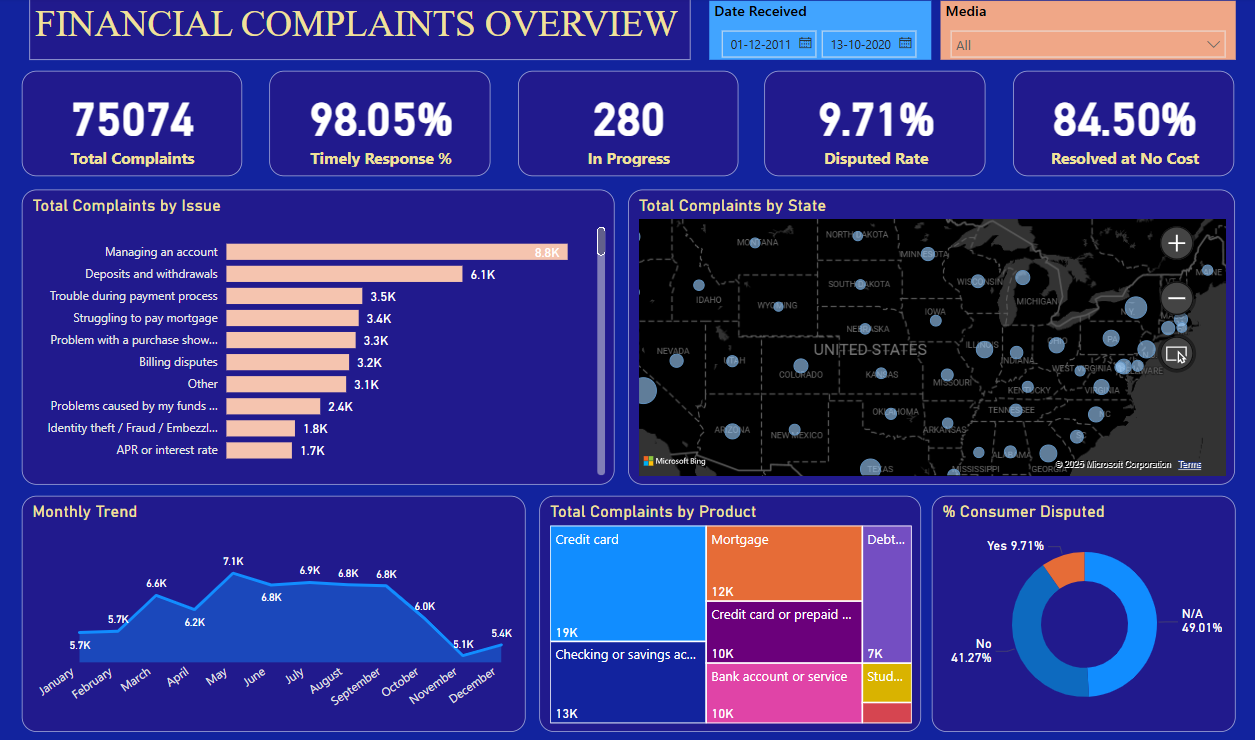

This screenshot's page, from the dashboard's own definition file:
{"tool":"powerbi","page":{"name":"Page 1","canvas":[1280,758],"ordinal":0},"visuals":[{"type":"card","fields":{"Values":["Financial Consumer Complaints_Financial Consumer Complaints.Total Complaints"]},"box":[23.8,75.2,223.9,107],"z":0},{"type":"textbox","box":[32,0,672,64],"z":1000},{"type":"card","fields":{"Values":["Financial Consumer Complaints_Financial Consumer Complaints.Tomely Response %"]},"box":[275.5,75.2,225.1,107],"z":2000},{"type":"card","fields":{"Values":["Financial Consumer Complaints_Financial Consumer Complaints.In Progress Complaints"]},"box":[527.9,75.2,223.9,107],"z":3000},{"type":"card","fields":{"Values":["Financial Consumer Complaints_Financial Consumer Complaints.Consumer Disputed Rate"]},"box":[779.1,75.2,225,107],"z":4000},{"type":"card","fields":{"Values":["Financial Consumer Complaints_Financial Consumer Complaints.Resolved at No Cost"]},"box":[1031.3,75.2,225.1,107],"z":5000},{"type":"barChart","fields":{"Category":["Financial Consumer Complaints_Financial Consumer Complaints.Issue"],"Y":["Financial Consumer Complaints_Financial Consumer Complaints.Total Complaints"]},"box":[24.4,195.1,602.3,299.9],"z":6000},{"type":"map","fields":{"Category":["Financial Consumer Complaints_Financial Consumer Complaints.State"],"Size":["Financial Consumer Complaints_Financial Consumer Complaints.Total Complaints"]},"box":[640.1,195.1,617,299.9],"z":7000},{"type":"areaChart","title":"Monthly Trend","fields":{"Category":["Financial Consumer Complaints_Financial Consumer Complaints.Date Received.Variation.Date Hierarchy.Month"],"Y":["Financial Consumer Complaints_Financial Consumer Complaints.Total Complaints"]},"box":[24.4,507.2,512.1,240.2],"z":8000},{"type":"treemap","fields":{"Group":["Financial Consumer Complaints_Financial Consumer Complaints.Product"],"Values":["Financial Consumer Complaints_Financial Consumer Complaints.Total Complaints"]},"box":[549.9,507.2,387.7,240.2],"z":9000},{"type":"donutChart","title":"% Consumer Disputed","fields":{"Category":["Financial Consumer Complaints_Financial Consumer Complaints.Consumer disputed?"],"Y":["Financial Consumer Complaints_Financial Consumer Complaints.Total Complaints"]},"box":[948.6,507.2,308.5,240.2],"z":10000},{"type":"slicer","title":"Date Received","fields":{"Values":["Financial Consumer Complaints_Financial Consumer Complaints.Date Received"]},"box":[723,3.7,225.6,59.7],"z":11000},{"type":"slicer","title":"Media","fields":{"Values":["Financial Consumer Complaints_Financial Consumer Complaints.Submitted via"]},"box":[957.1,3.7,299.9,59.7],"z":12000}]}

Visuals, with their boxes in screenshot pixels (x1, y1, x2, y2), scaled from the page's 1280x758 canvas onto the 1255x740 screenshot:
card - Financial Consumer Complaints_Financial Consumer Complaints.Total Complaints: BBox(23, 73, 243, 178)
textbox: BBox(31, 0, 690, 62)
card - Financial Consumer Complaints_Financial Consumer Complaints.Tomely Response %: BBox(270, 73, 491, 178)
card - Financial Consumer Complaints_Financial Consumer Complaints.In Progress Complaints: BBox(518, 73, 737, 178)
card - Financial Consumer Complaints_Financial Consumer Complaints.Consumer Disputed Rate: BBox(764, 73, 984, 178)
card - Financial Consumer Complaints_Financial Consumer Complaints.Resolved at No Cost: BBox(1011, 73, 1232, 178)
barChart - Financial Consumer Complaints_Financial Consumer Complaints.Issue x Financial Consumer Complaints_Financial Consumer Complaints.Total Complaints: BBox(24, 190, 614, 483)
map - Financial Consumer Complaints_Financial Consumer Complaints.State x Financial Consumer Complaints_Financial Consumer Complaints.Total Complaints: BBox(628, 190, 1233, 483)
"Monthly Trend" areaChart: BBox(24, 495, 526, 730)
treemap - Financial Consumer Complaints_Financial Consumer Complaints.Product x Financial Consumer Complaints_Financial Consumer Complaints.Total Complaints: BBox(539, 495, 919, 730)
"% Consumer Disputed" donutChart: BBox(930, 495, 1233, 730)
"Date Received" slicer: BBox(709, 4, 930, 62)
"Media" slicer: BBox(938, 4, 1232, 62)
